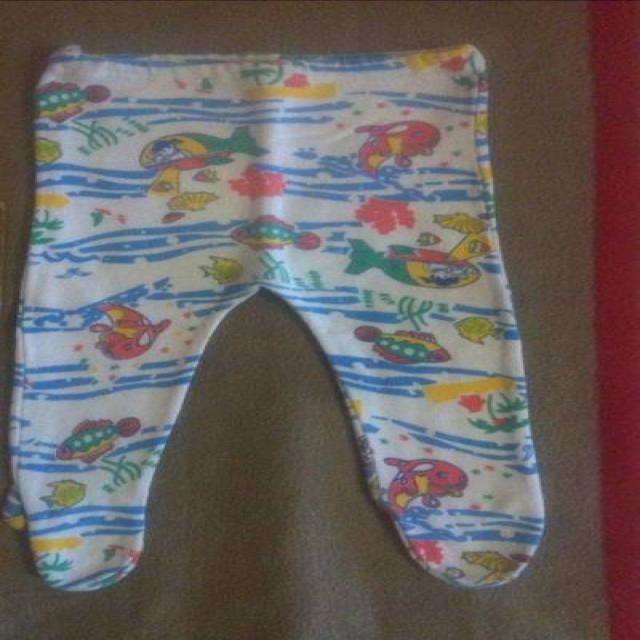Clothes -Biodegradable-: (10, 43, 549, 592)
